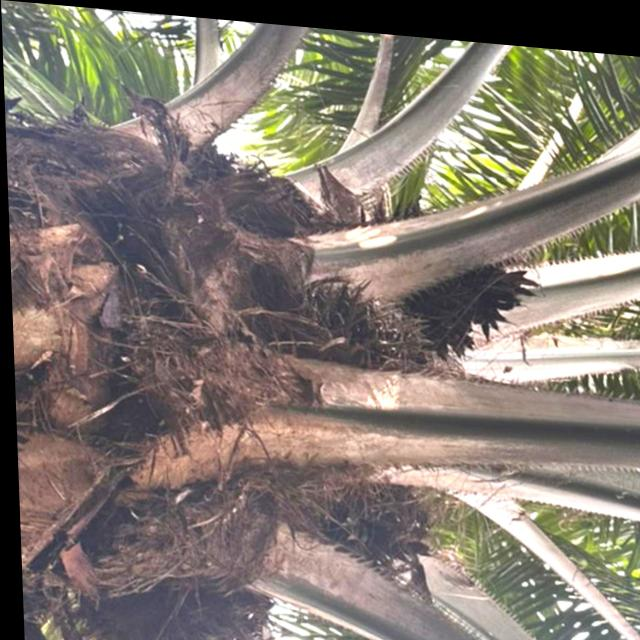unripe: (261, 252, 439, 387)
